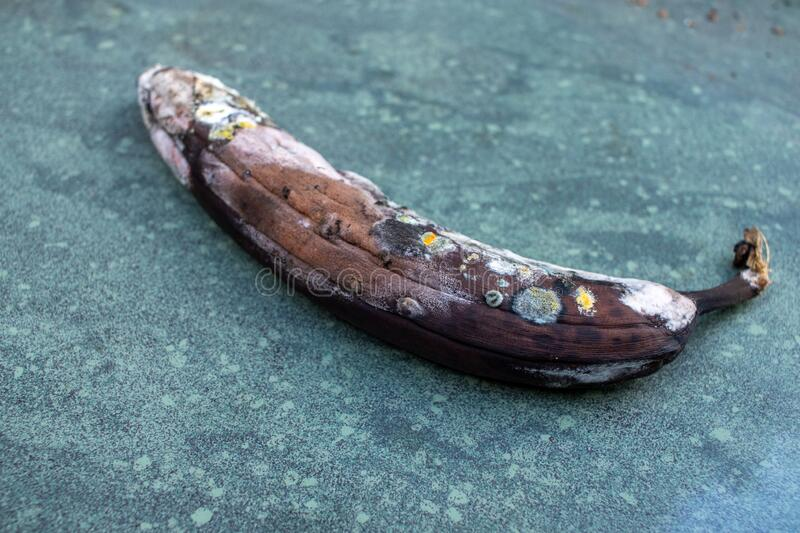looks_defective: (92, 52, 794, 414)
